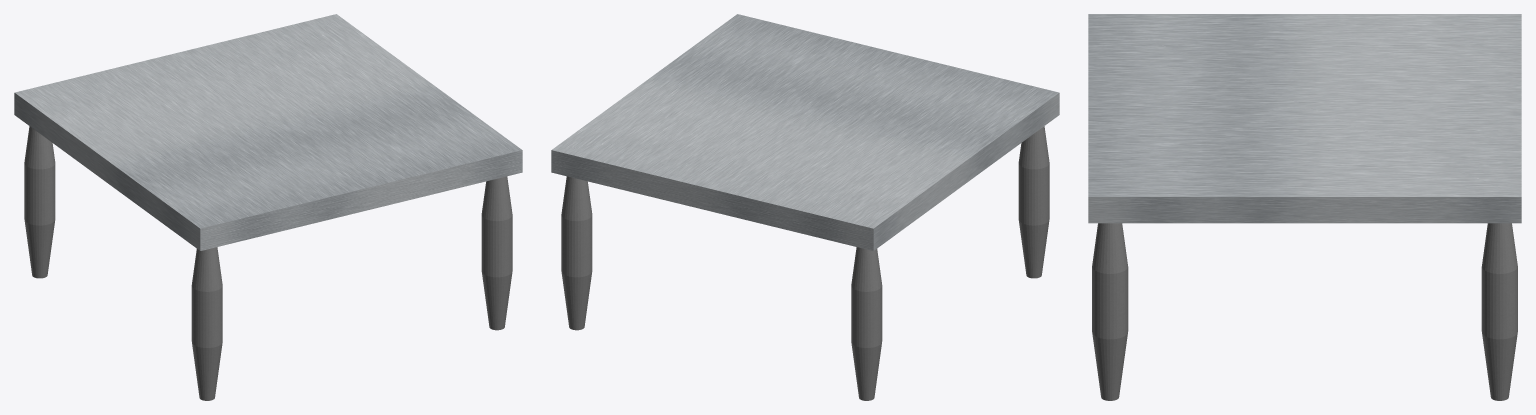
File: MetalTable1.fbx
3 renders of one model, left to right at view 1: azimuth 30°, elevation 25°; view 2: azimuth 150°, elevation 25°; view 3: azimuth 270°, elevation 25°, orthographic. The views are drawn at different scales.
Parts seen in each view (by area): view 1: Cube, Cylinder.004, Cylinder.001, Cylinder.005; view 2: Cube, Cylinder.005, Cylinder.003, Cylinder.004; view 3: Cube, Cylinder.001, Cylinder.003.
Part boxes in pixels (left/top/right/bottom): Cube: left=14, top=14, right=522, bottom=250; Cylinder.004: left=191, top=247, right=222, bottom=400; Cylinder.001: left=481, top=176, right=512, bottom=330; Cylinder.005: left=24, top=126, right=55, bottom=278; Cube: left=551, top=14, right=1059, bottom=250; Cylinder.005: left=851, top=247, right=882, bottom=400; Cylinder.003: left=561, top=176, right=592, bottom=330; Cylinder.004: left=1018, top=126, right=1049, bottom=278; Cube: left=1088, top=14, right=1521, bottom=223; Cylinder.001: left=1092, top=223, right=1128, bottom=400; Cylinder.003: left=1481, top=223, right=1517, bottom=400.
Bounding box in the file's own units: 600 × 320 × 600.
